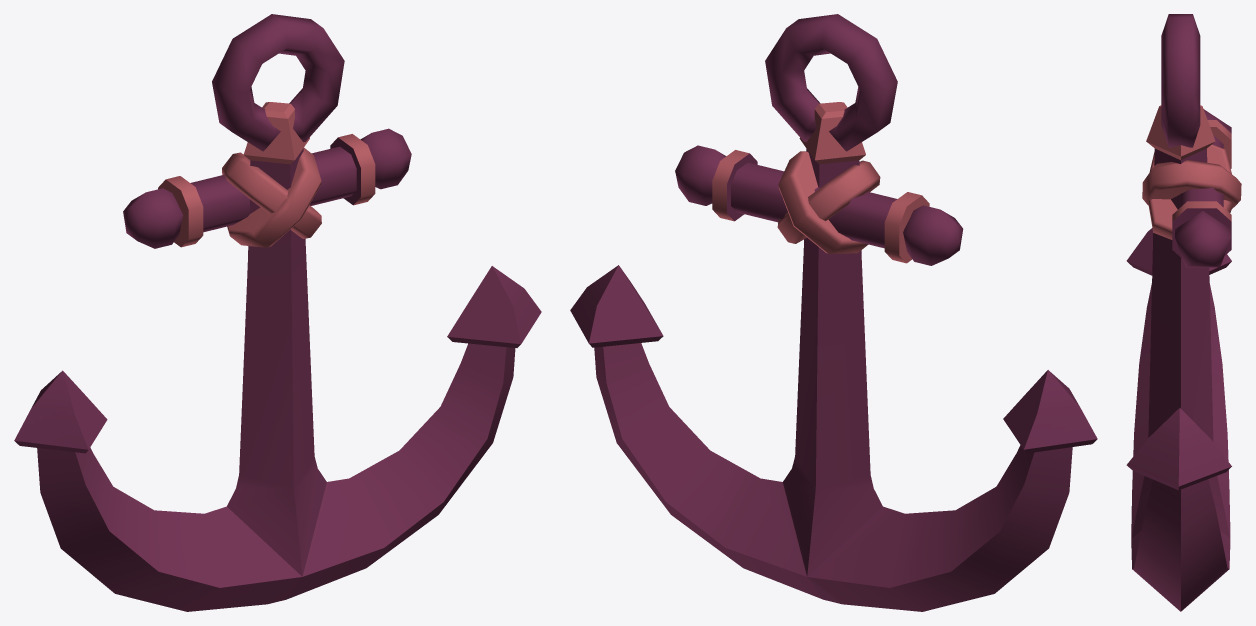
Rendered from Anchor.fbx.
3 renders of one model, left to right at view 1: azimuth 30°, elevation 25°; view 2: azimuth 150°, elevation 25°; view 3: azimuth 270°, elevation 25°, orthographic. The views are drawn at different scales.
Visible parts, largest first — view 1: Anchor; view 2: Anchor; view 3: Anchor.
Boxes of the visible parts, x1,y1,x2,y2 form: Anchor: (14, 14, 541, 611); Anchor: (570, 14, 1097, 611); Anchor: (1126, 14, 1241, 611).
Bounding box in the file's own units: 142 × 150 × 27.79.
